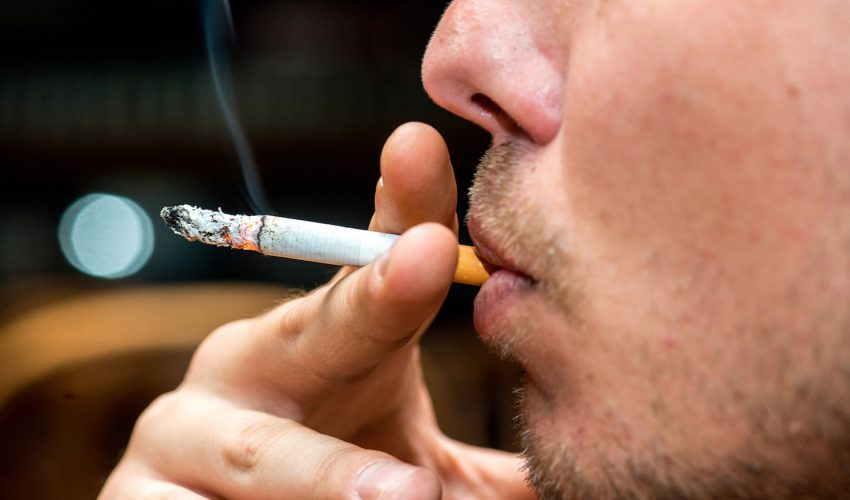cigarette: (152, 182, 527, 306)
